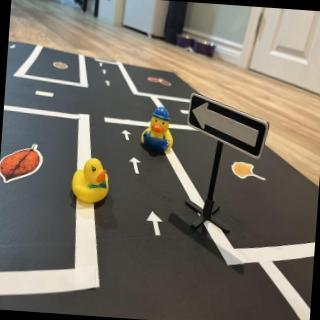duck_regular: (71, 157, 112, 207)
duck_specialty: (139, 104, 176, 159)
road_oneway: (141, 205, 170, 242), (128, 154, 144, 179), (119, 127, 133, 145), (104, 78, 113, 90), (102, 67, 108, 77), (99, 60, 104, 68)
sign_oneway_left: (185, 93, 273, 161)
